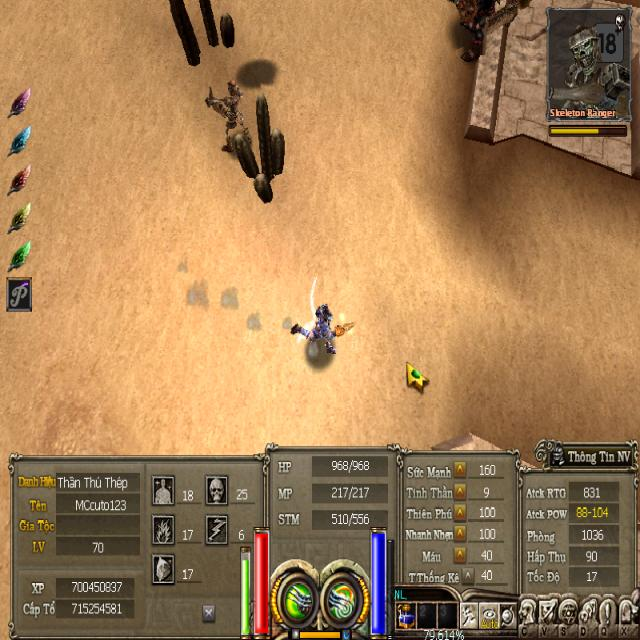monster: (196, 66, 262, 157)
